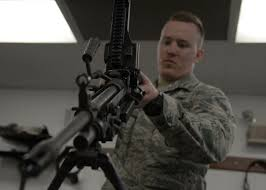gun: (17, 5, 143, 180)
